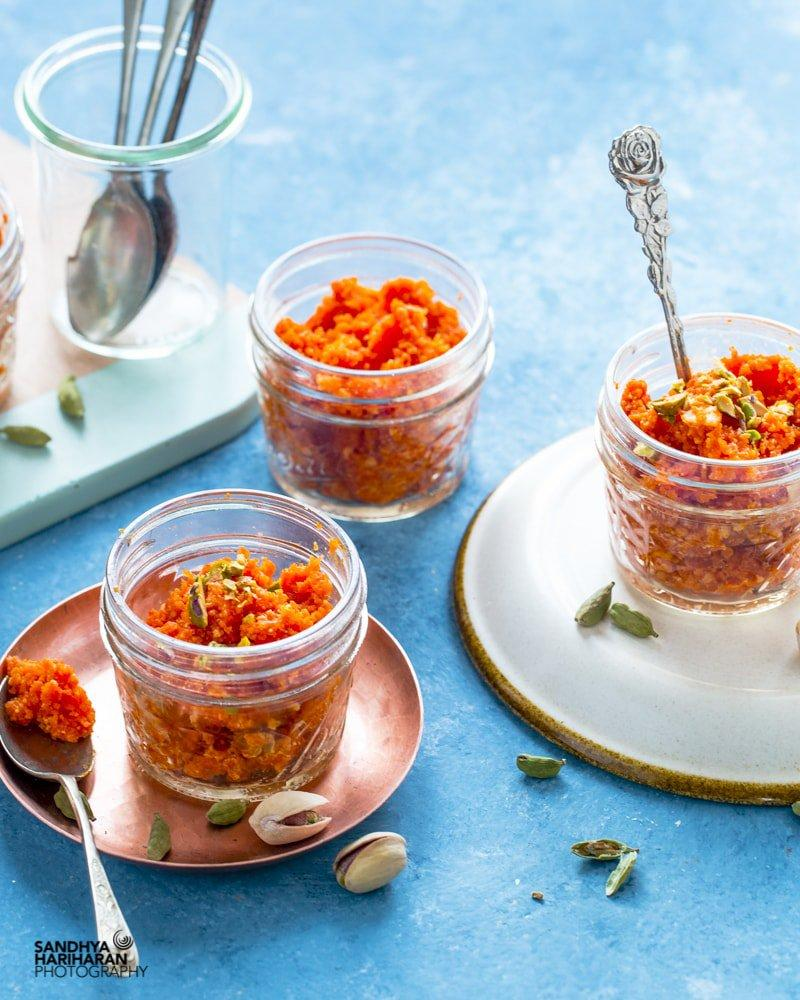Gajar ka halwa: (99, 489, 358, 802), (255, 234, 489, 518), (598, 306, 800, 623)
